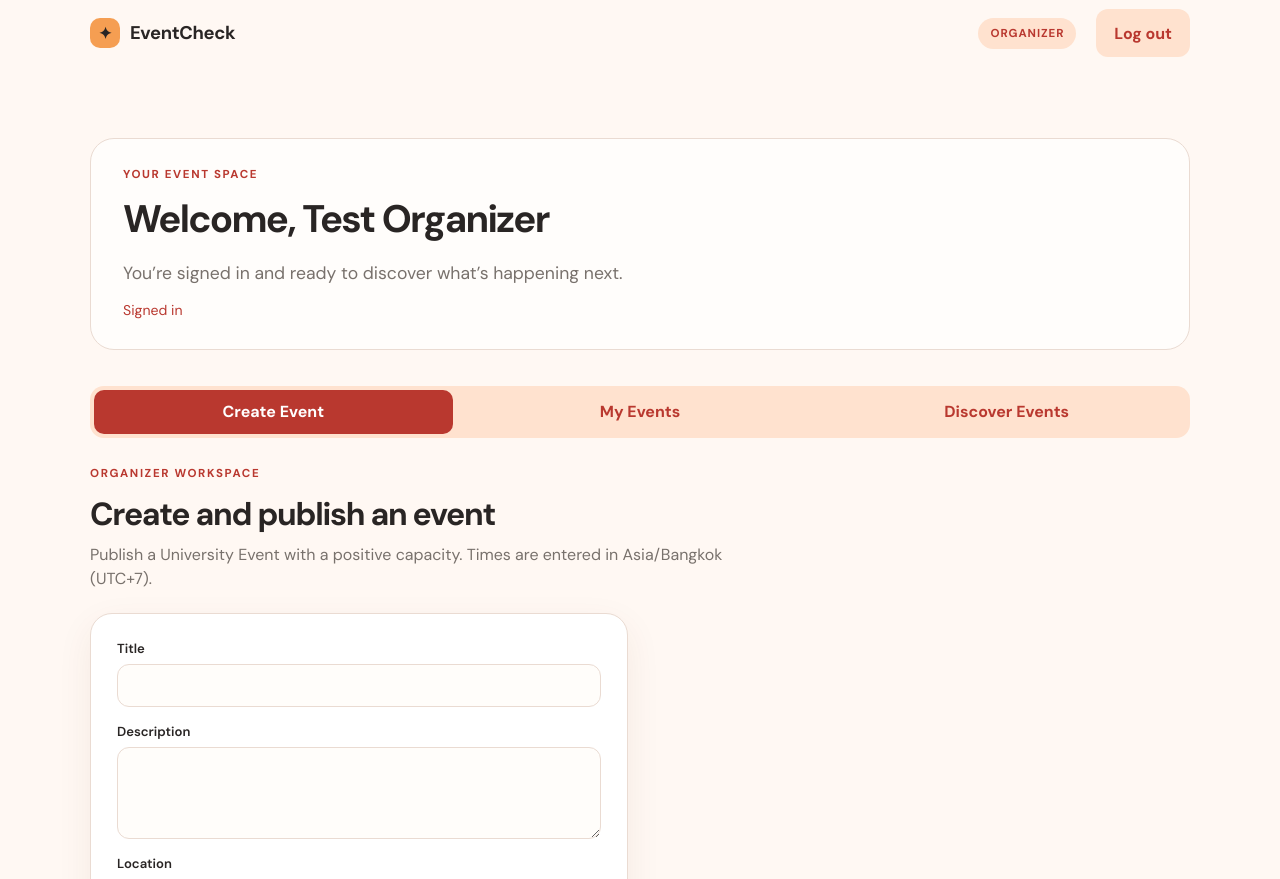
Test: F-02 organizer event publishing UI › TEST-F02-03/04/05: maps API validation details to the event form
The image size is (1280, 879).
In the field labelled "Title": [359, 685] box [117,664,601,707], type "University Workshop"
In the text box labelled "Description": [359, 793] box [117,747,601,839], type "A persisted workshop."
(page scrolled)
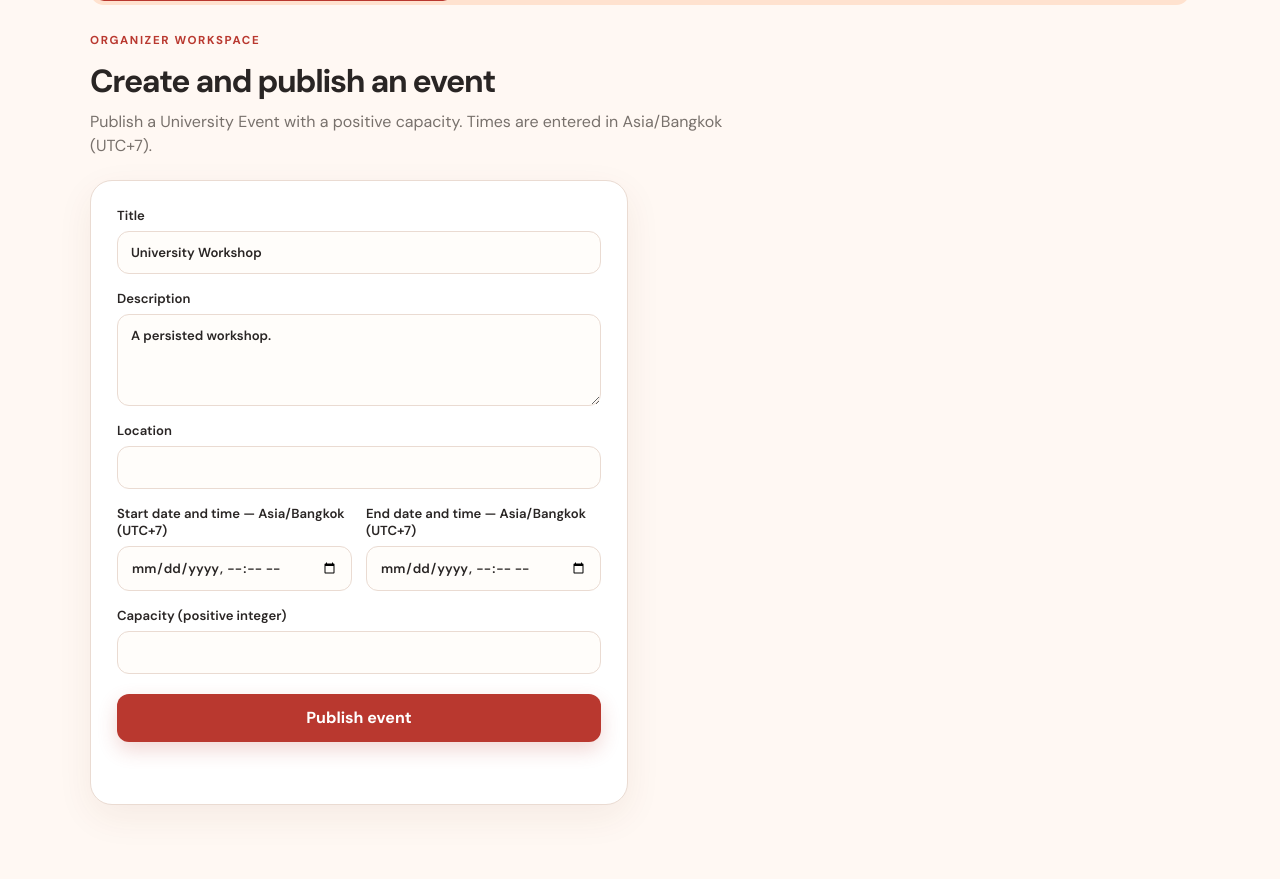
In the field labelled "Location": [359, 467] box [117,446,601,489], type "Engineering Building 1"
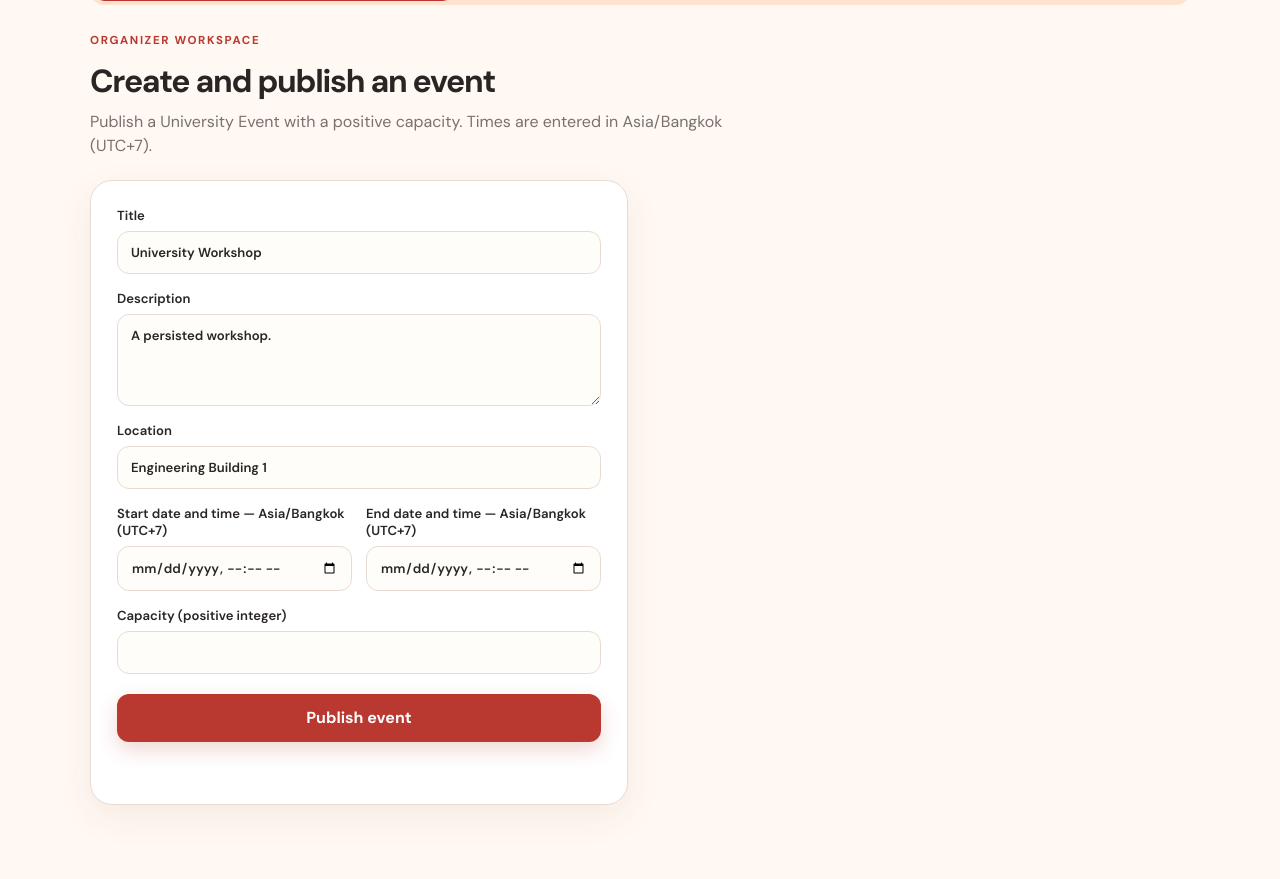
In the field labelled "Start date and time — Asia/Bangkok (UTC+7)": [234, 568] box [117,546,352,591], type "2026-11-20T09:00"
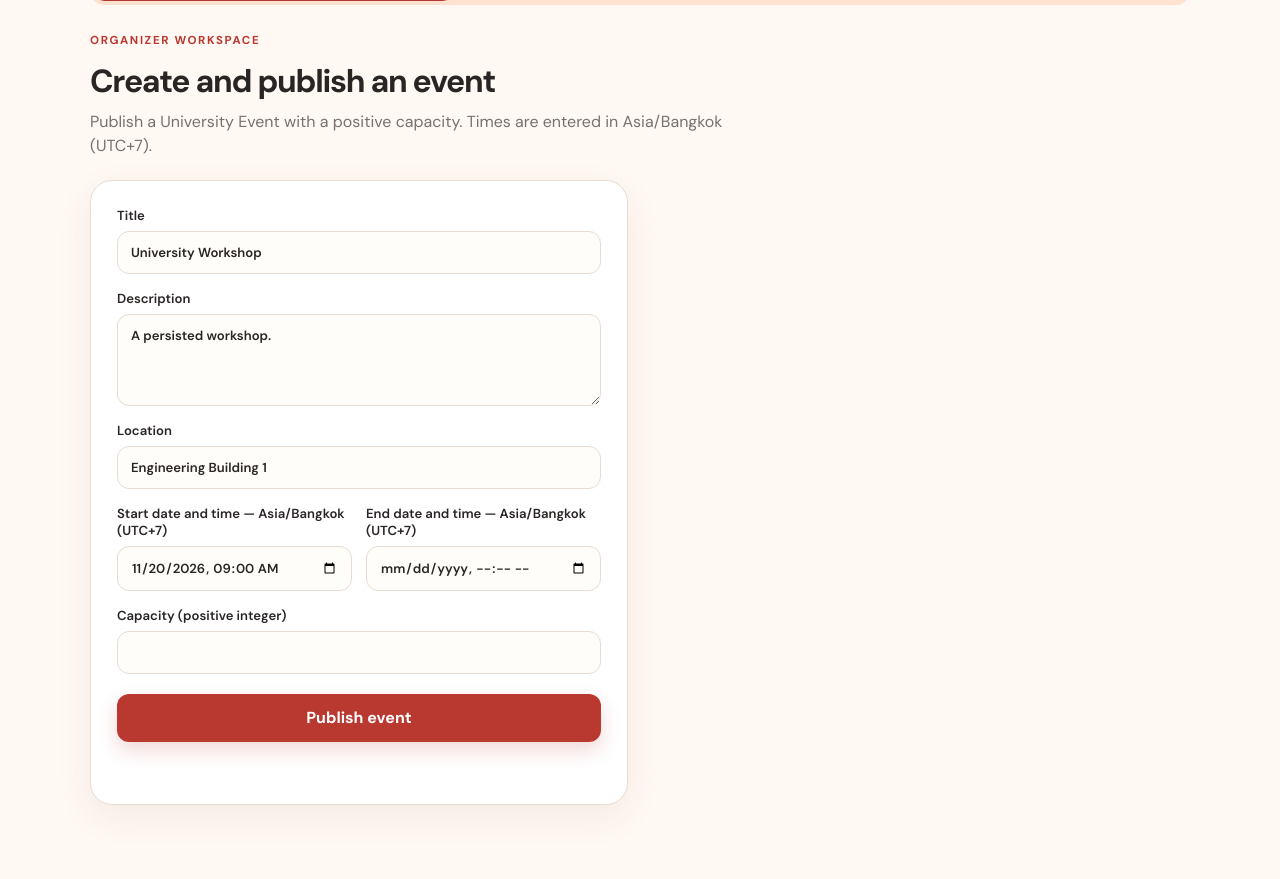
In the field labelled "End date and time — Asia/Bangkok (UTC+7)": [484, 568] box [366,546,601,591], type "2026-11-20T12:00"
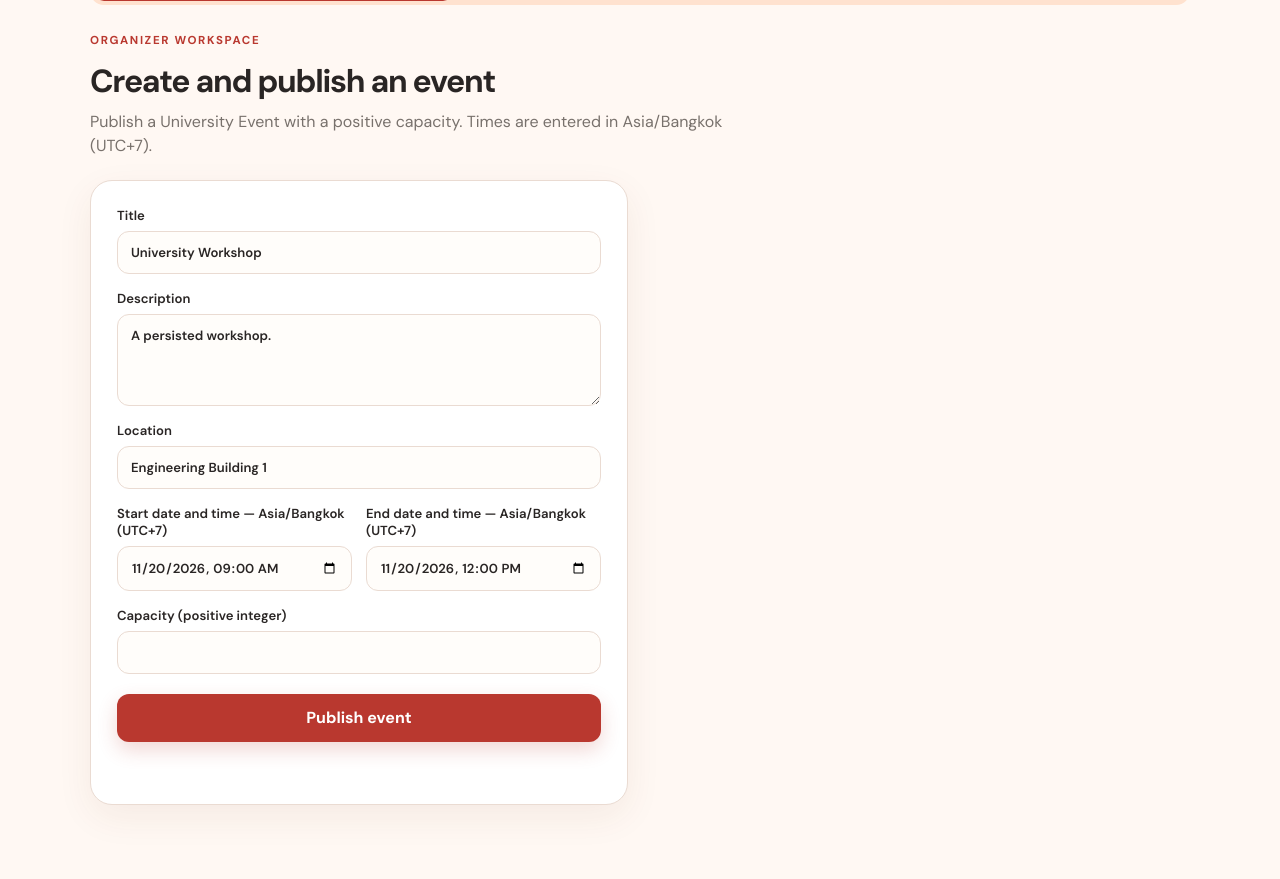
In the number field labelled "Capacity (positive integer)": [359, 652] box [117,631,601,674], type "1"
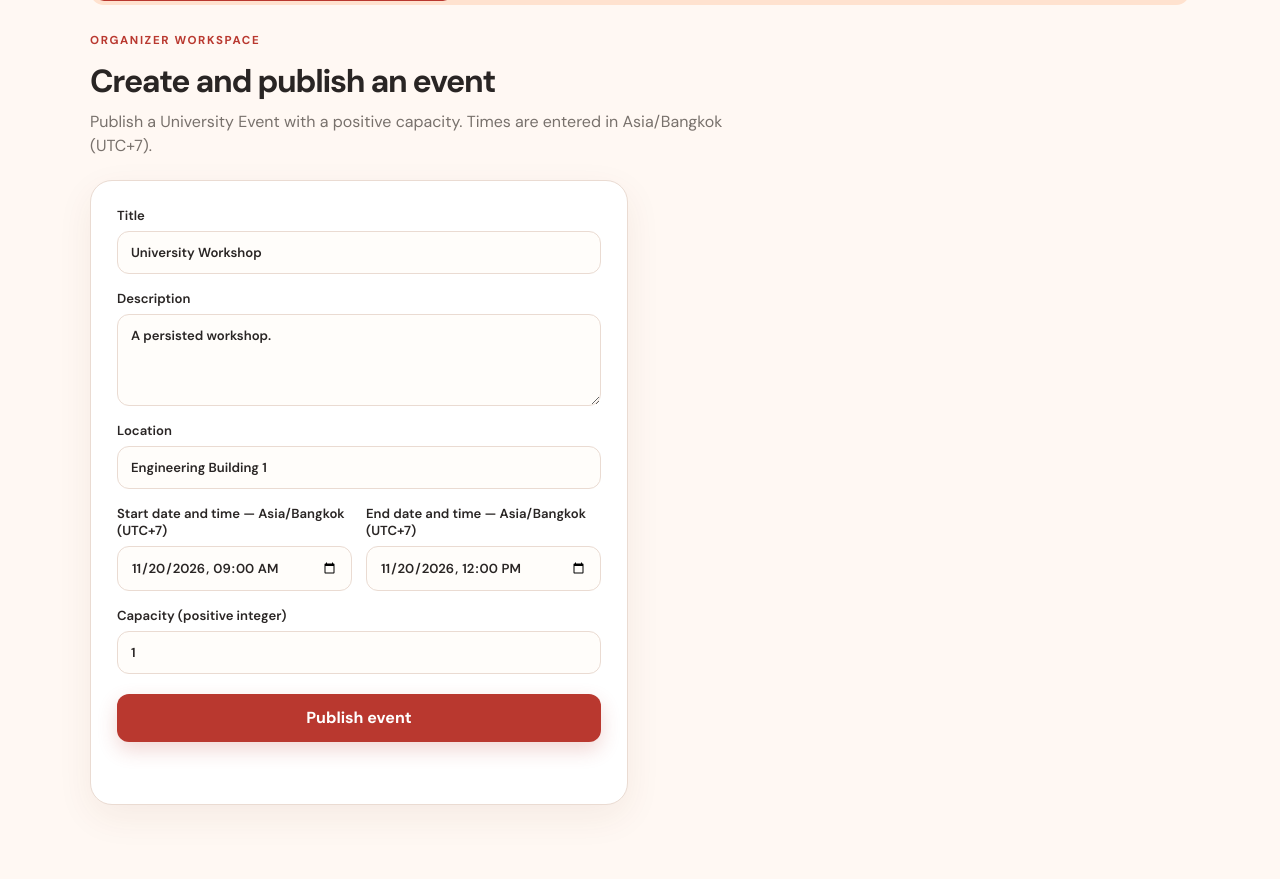
Click the button "Publish event": [359, 718] box [117,694,601,742]
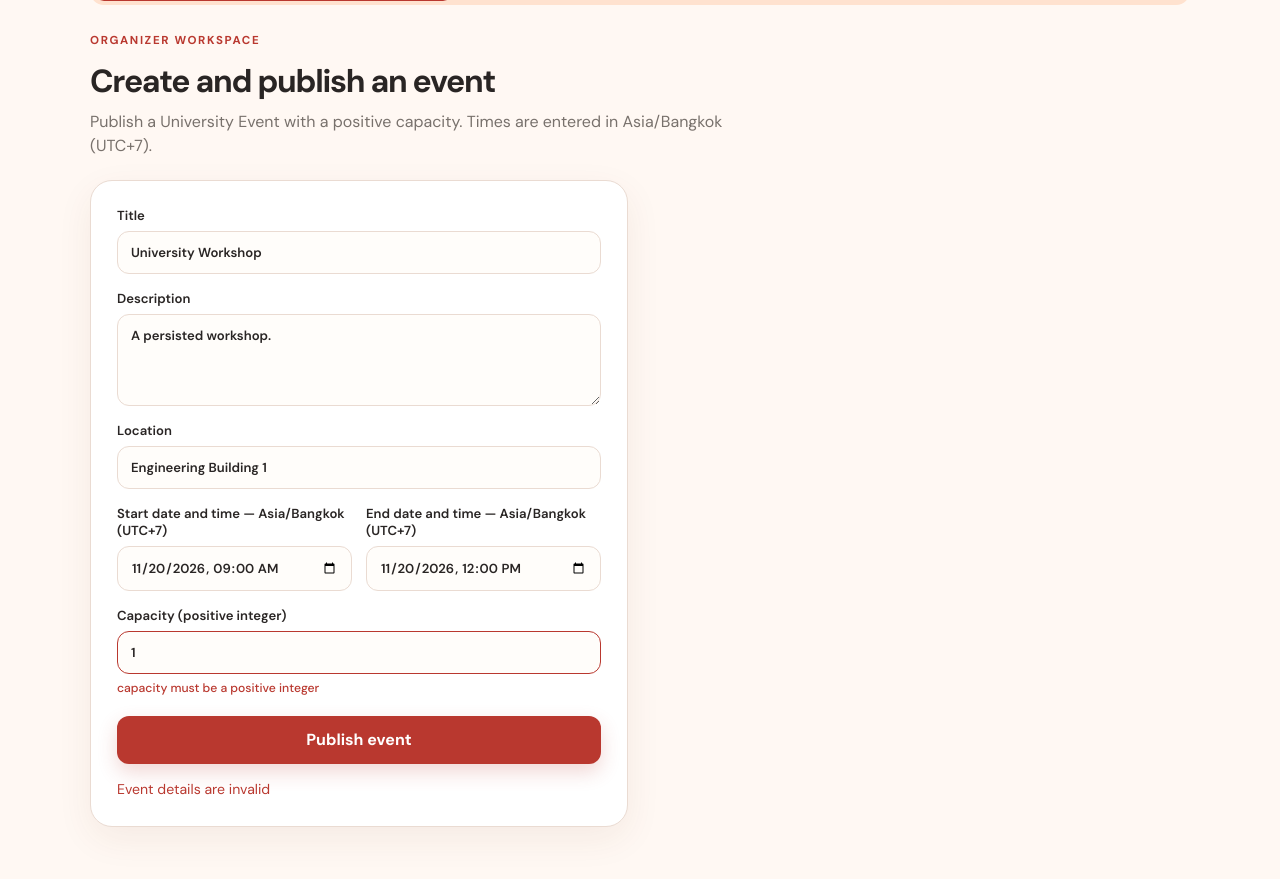
Now the text "capacity must be a positive integer" is shown, box [117,680,319,696]
